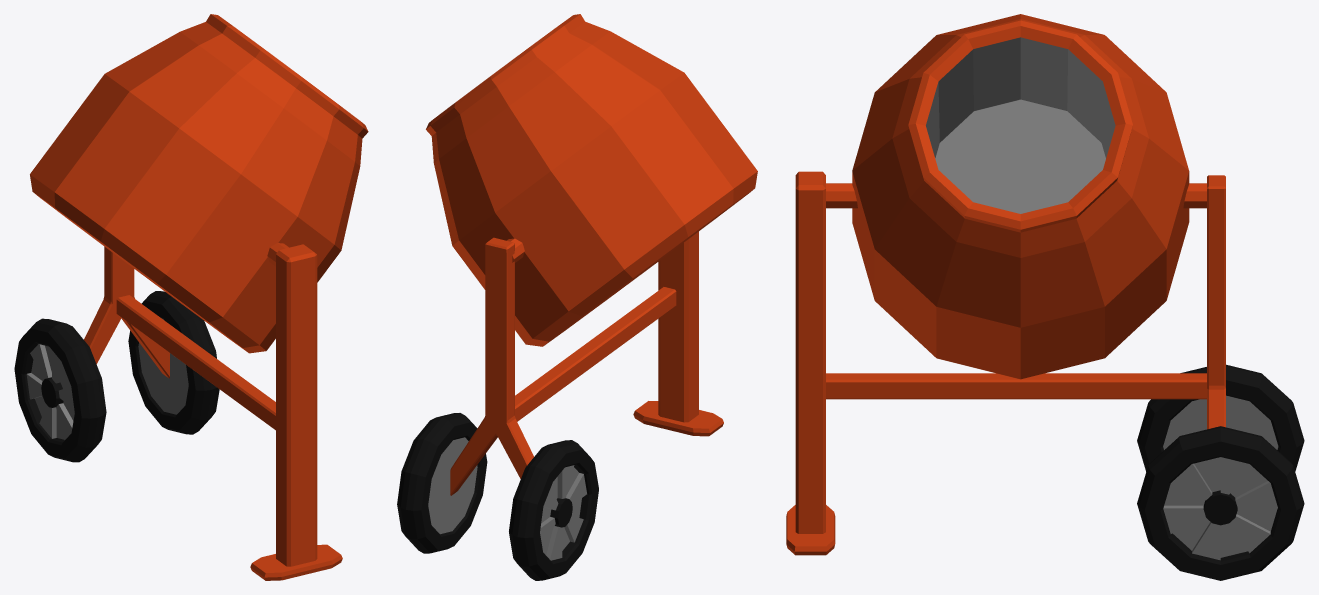
The model's file is cement_mixer.glb.
3 renders of one model, left to right at view 1: azimuth 30°, elevation 25°; view 2: azimuth 150°, elevation 25°; view 3: azimuth 270°, elevation 25°, orthographic. The views are drawn at different scales.
Parts seen in each view (by area): view 1: Cement_Mixer; view 2: Cement_Mixer; view 3: Cement_Mixer.
Part boxes in pixels (x1,y1,x2,y2): Cement_Mixer: (14, 14, 368, 580); Cement_Mixer: (397, 14, 757, 580); Cement_Mixer: (786, 14, 1304, 580).
Size of the model in its own units: 0.9772 by 1.5 by 1.31.
